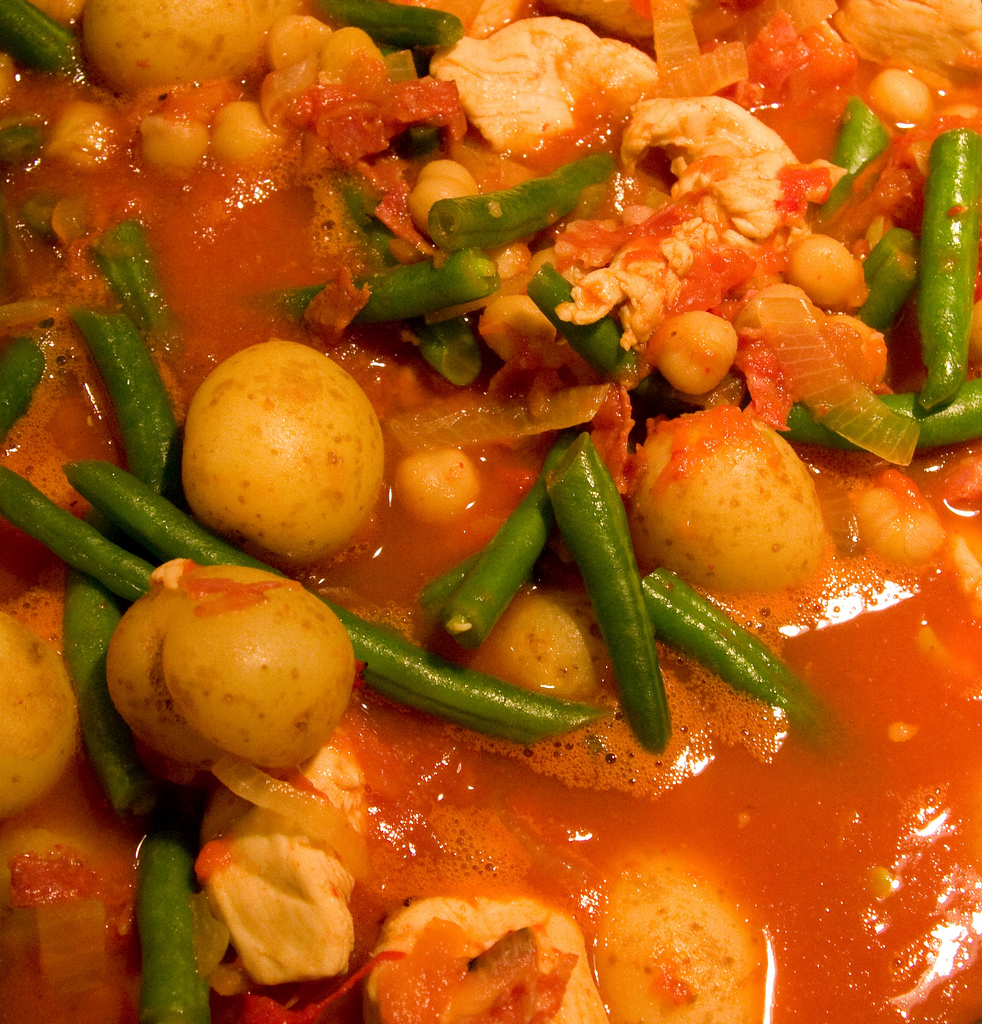boiled potatoes: (183, 334, 388, 574), (131, 572, 326, 762), (656, 412, 816, 609)
